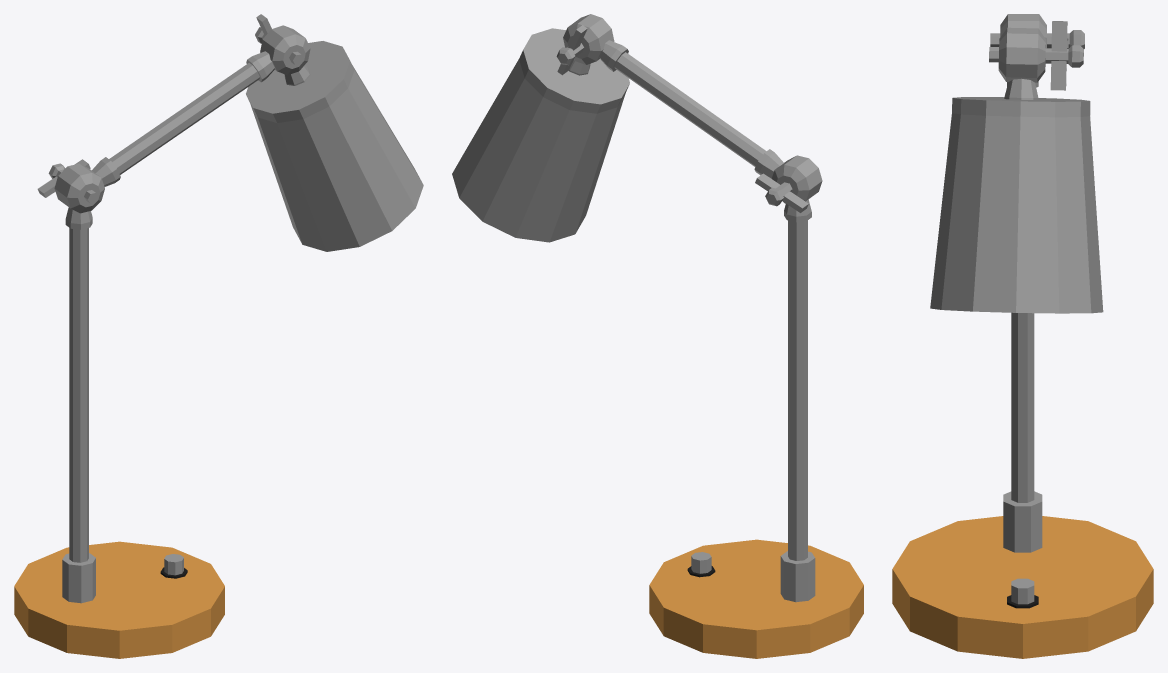
Rendered from lamp.obj.
3 views of the same model, side by side, from view 1: azimuth 30°, elevation 25°; view 2: azimuth 150°, elevation 25°; view 3: azimuth 270°, elevation 25° (orthographic). The views are drawn at different scales.
Visible parts, largest first — view 1: group1491648249, group2132285159, group903673691, group1076982204, group1115221507; view 2: group1491648249, group2132285159, group903673691, group1115221507, group1076982204; view 3: group1491648249, group2132285159, group903673691, group1115221507, group1076982204, group247553634, group644361083.
Boxes of the visible parts, bbox=[...] form: group1491648249: bbox=[92, 14, 423, 251]; group2132285159: bbox=[14, 541, 224, 658]; group903673691: bbox=[69, 228, 88, 562]; group1076982204: bbox=[54, 163, 104, 213]; group1115221507: bbox=[62, 553, 95, 603]; group1491648249: bbox=[452, 14, 783, 242]; group2132285159: bbox=[649, 539, 863, 658]; group903673691: bbox=[788, 220, 807, 560]; group1115221507: bbox=[780, 551, 815, 602]; group1076982204: bbox=[771, 155, 822, 203]; group1491648249: bbox=[930, 21, 1103, 313]; group2132285159: bbox=[892, 516, 1153, 658]; group903673691: bbox=[1011, 312, 1034, 502]; group1115221507: bbox=[1003, 491, 1042, 552]; group1076982204: bbox=[1000, 14, 1046, 48]; group247553634: bbox=[1011, 578, 1034, 604]; group644361083: bbox=[990, 30, 1084, 48].
Bounding box in the file's own units: 1.43 × 1.95 × 0.68.
